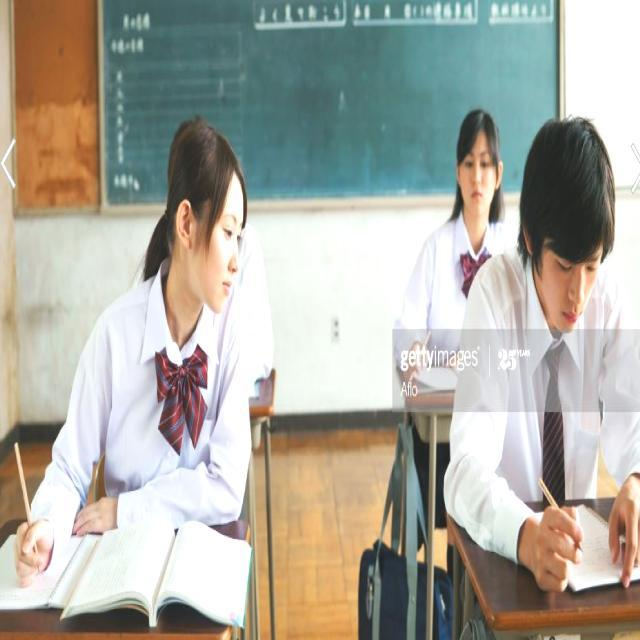cheating: (0, 105, 265, 640)
good: (476, 103, 635, 333)
